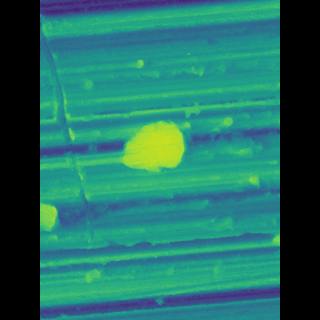Loch: (68, 16, 114, 287), (126, 114, 184, 176)
